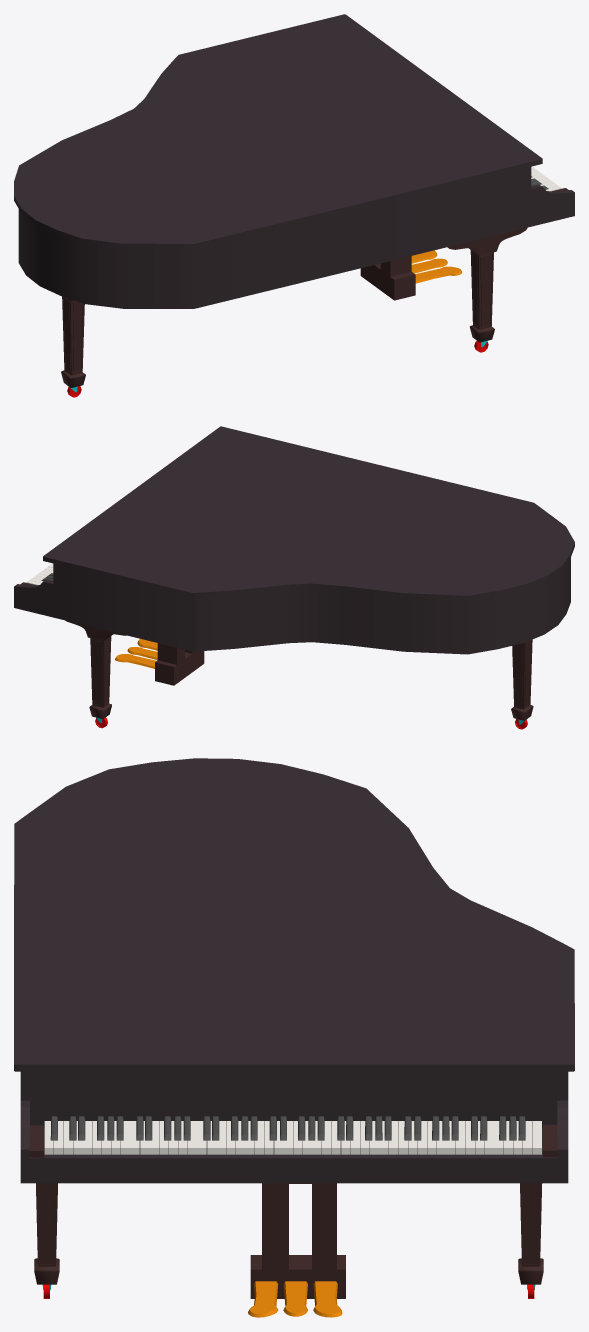
Rendered from piano_sky.fbx.
The picture shows the model from 3 angles, top to bottom: view 1: azimuth 30°, elevation 25°; view 2: azimuth 150°, elevation 25°; view 3: azimuth 270°, elevation 25°; orthographic projection. The views are drawn at different scales.
Parts seen in each view (by area): view 1: Box001; view 2: Box001; view 3: Box001.
Part boxes in pixels (box(x1,y1,x2,y2)): Box001: box(14, 14, 574, 397); Box001: box(14, 426, 574, 729); Box001: box(14, 758, 574, 1317).
Bounding box in the file's own units: 373 × 141 × 268.
